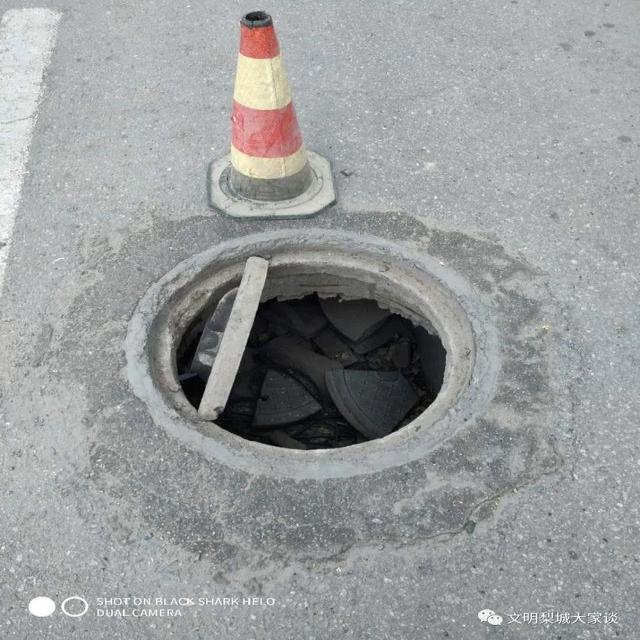manhole-cover: (101, 232, 529, 486)
obstracle: (185, 0, 369, 229)
